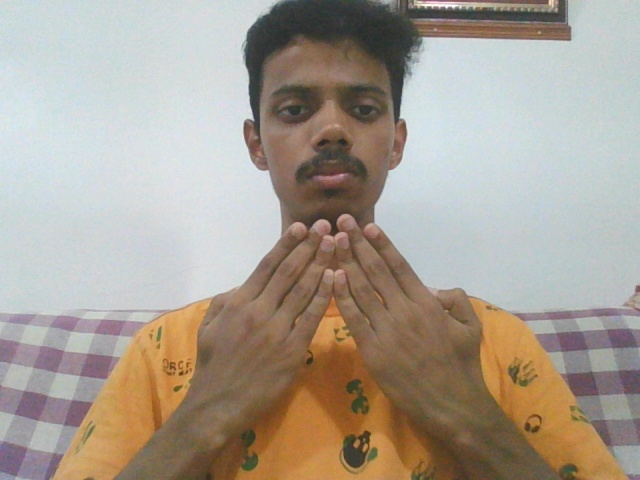ThankYou: (197, 212, 485, 400)
